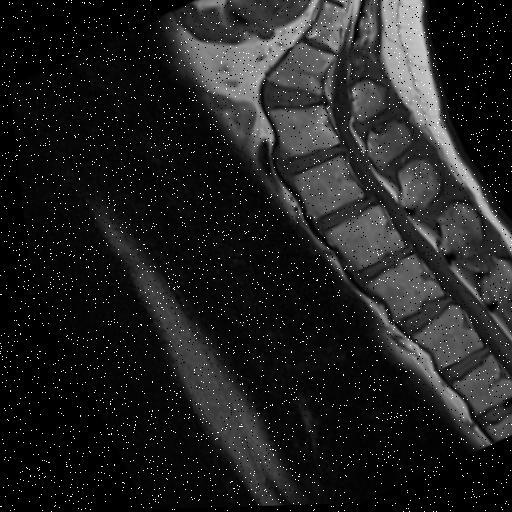L1: (404, 307, 473, 370)
L2: (357, 256, 435, 322)
L3: (318, 206, 398, 271)
L4: (286, 156, 357, 220)
L5: (269, 106, 333, 156)
S1: (265, 41, 332, 95)
